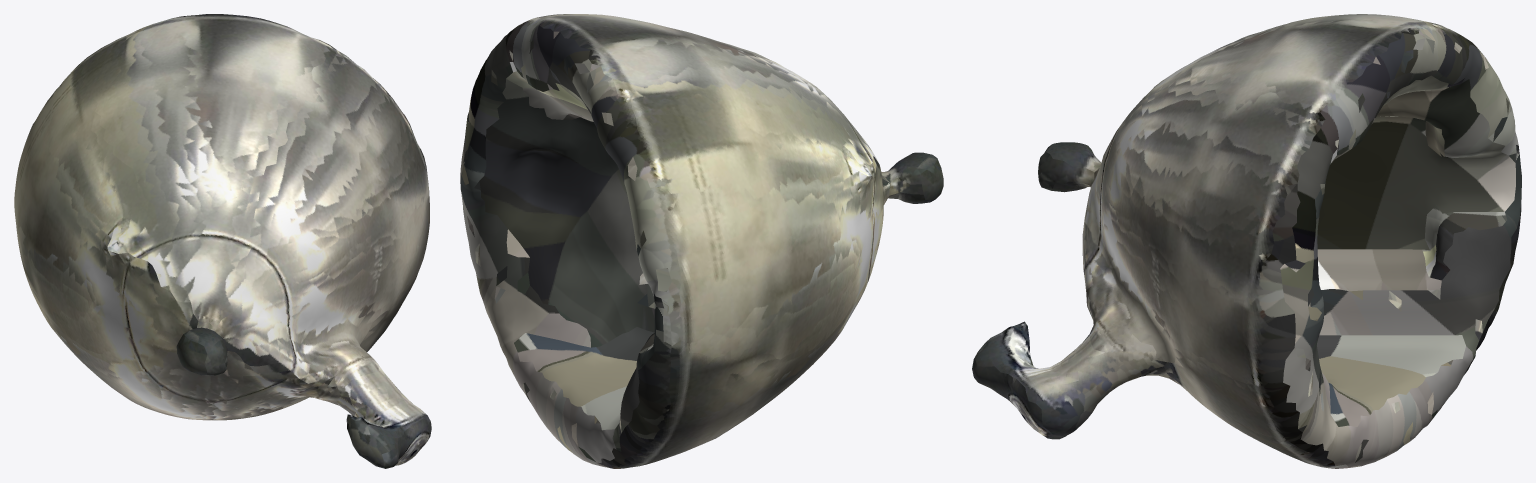
Rendered from object-bad-example-2.glb.
3 views of the same model, side by side, from view 1: azimuth 30°, elevation 25°; view 2: azimuth 150°, elevation 25°; view 3: azimuth 270°, elevation 25° (orthographic). The views are drawn at different scales.
Parts seen in each view (by area): view 1: textured_mesh; view 2: textured_mesh; view 3: textured_mesh.
Boxes of the visible parts, box(x1,y1,x2,y2) form: textured_mesh: box(14, 14, 431, 468); textured_mesh: box(460, 14, 943, 468); textured_mesh: box(972, 14, 1521, 468).
Bounding box in the file's own units: 0.1704 × 0.1765 × 0.2125.
1 material, 1 textured.
